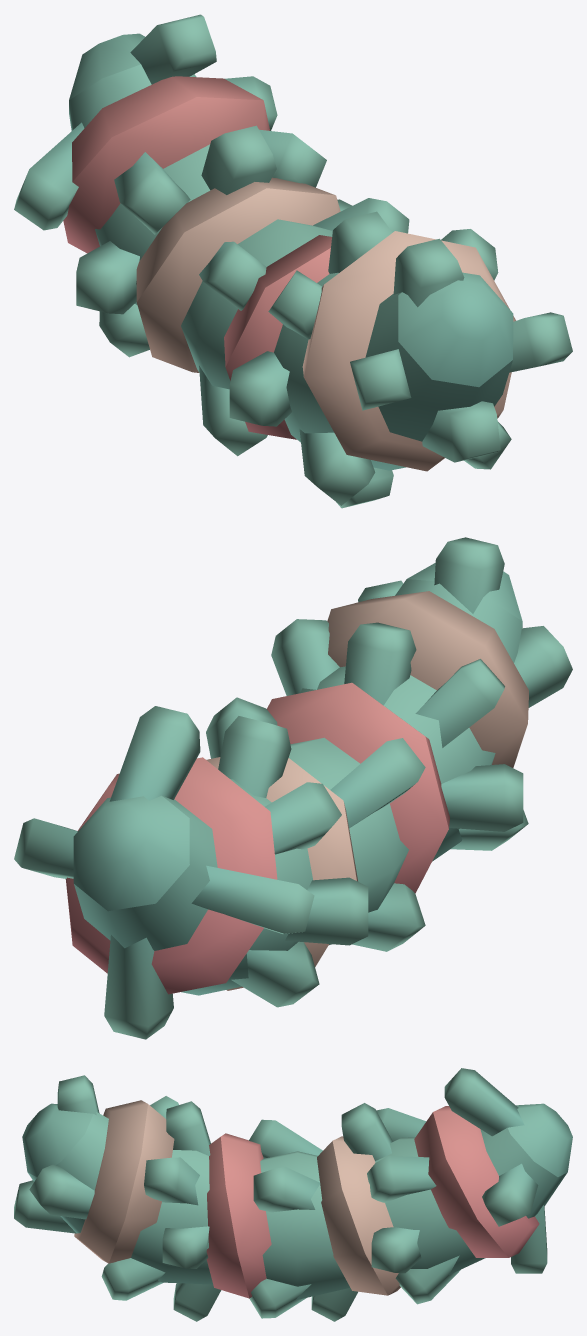
Rendered from garland-decorated-wall (%wall).glb.
3 views of the same model, one above another, from view 1: azimuth 30°, elevation 25°; view 2: azimuth 150°, elevation 25°; view 3: azimuth 270°, elevation 25° (orthographic). The views are drawn at different scales.
Parts seen in each view (by area): view 1: garland-decorated-wall (%wall); view 2: garland-decorated-wall (%wall); view 3: garland-decorated-wall (%wall).
Part boxes in pixels (box(x1,y1,x2,y2)): garland-decorated-wall (%wall): box(14, 14, 572, 508); garland-decorated-wall (%wall): box(14, 537, 572, 1039); garland-decorated-wall (%wall): box(14, 1068, 572, 1321).
Bounding box in the file's own units: 0.306 × 0.3647 × 0.7455.
